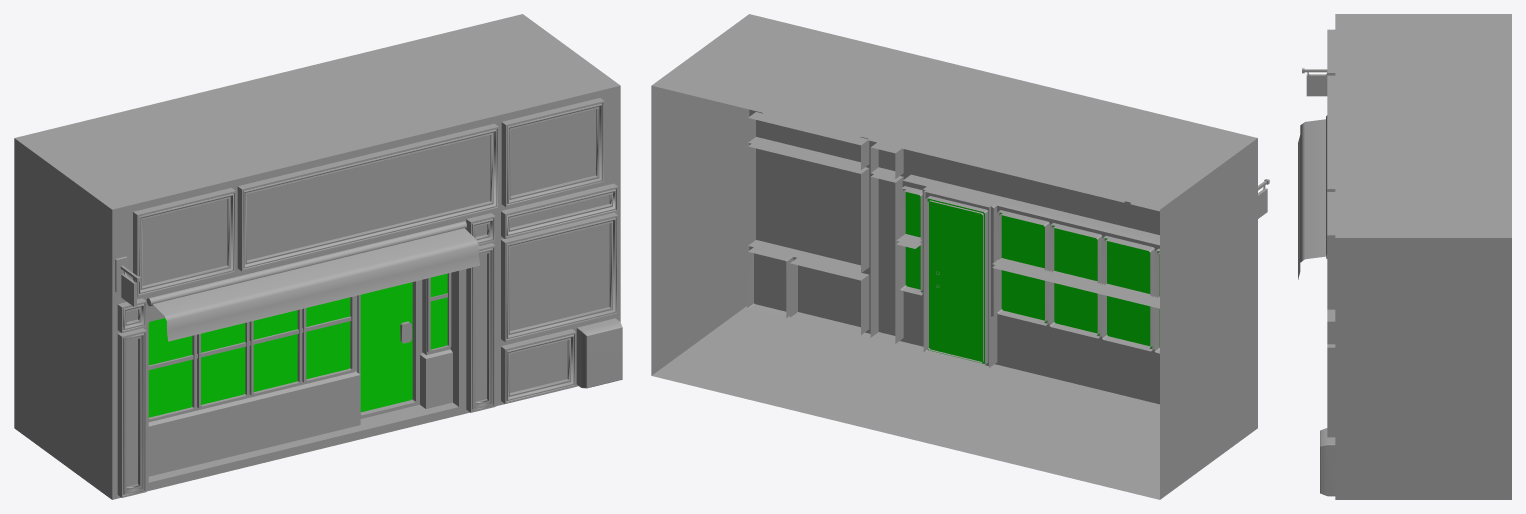
The model's file is SM_Deventure_1.fbx.
3 views of the same model, side by side, from view 1: azimuth 30°, elevation 25°; view 2: azimuth 150°, elevation 25°; view 3: azimuth 270°, elevation 25° (orthographic). The views are drawn at different scales.
Parts seen in each view (by area): view 1: polySurface5, pCube30, polySurface2, pPlane1, pCube33, pCube31, pCube2, polySurface6, pCube38, pCube34, pCube36, pCube32 (+11 smaller); view 2: polySurface5, polySurface2, polySurface6, pCube33, pCube34, pCube32, pCube22, pCube36, pCube25, pCube40, pCube41, polySurface4 (+4 smaller); view 3: polySurface5, pPlane1, pCube31, pCube30, pCube12, pCube33, pCube15, pCube2, pCube32, pCylinder1.
Boxes of the visible parts, box(x1,y1,x2,y2) form: polySurface5: box(14, 14, 620, 499); pCube30: box(237, 123, 498, 271); polySurface2: box(148, 296, 354, 422); pPlane1: box(153, 228, 479, 341); pCube33: box(501, 212, 618, 342); pCube31: box(501, 98, 604, 207); pCube2: box(133, 188, 235, 296); polySurface6: box(355, 280, 419, 418); pCube38: box(117, 328, 146, 497); pCube34: box(466, 243, 495, 412); pCube36: box(501, 329, 576, 403); pCube32: box(501, 183, 618, 238); polySurface5: box(651, 14, 1257, 499); polySurface2: box(997, 205, 1159, 352); polySurface6: box(923, 190, 990, 368); pCube33: box(748, 144, 869, 273); pCube34: box(870, 174, 903, 343); pCube32: box(748, 112, 869, 170); pCube22: box(992, 258, 1159, 308); pCube36: box(790, 258, 869, 334); pCube25: box(925, 196, 988, 365); pCube40: box(996, 210, 1049, 325); pCube41: box(1049, 223, 1102, 338); polySurface4: box(902, 181, 926, 295); polySurface5: box(1335, 14, 1511, 499); pPlane1: box(1298, 119, 1325, 279); pCube31: box(1327, 192, 1335, 309); pCube30: box(1327, 75, 1335, 191); pCube12: box(1320, 428, 1335, 496); pCube33: box(1327, 344, 1335, 437); pCube15: box(1306, 74, 1327, 96); pCube2: box(1327, 29, 1335, 75); pCube32: box(1327, 309, 1335, 344); pCylinder1: box(1326, 115, 1327, 258).
Size of the model in its own units: 1100 by 600 by 444.
